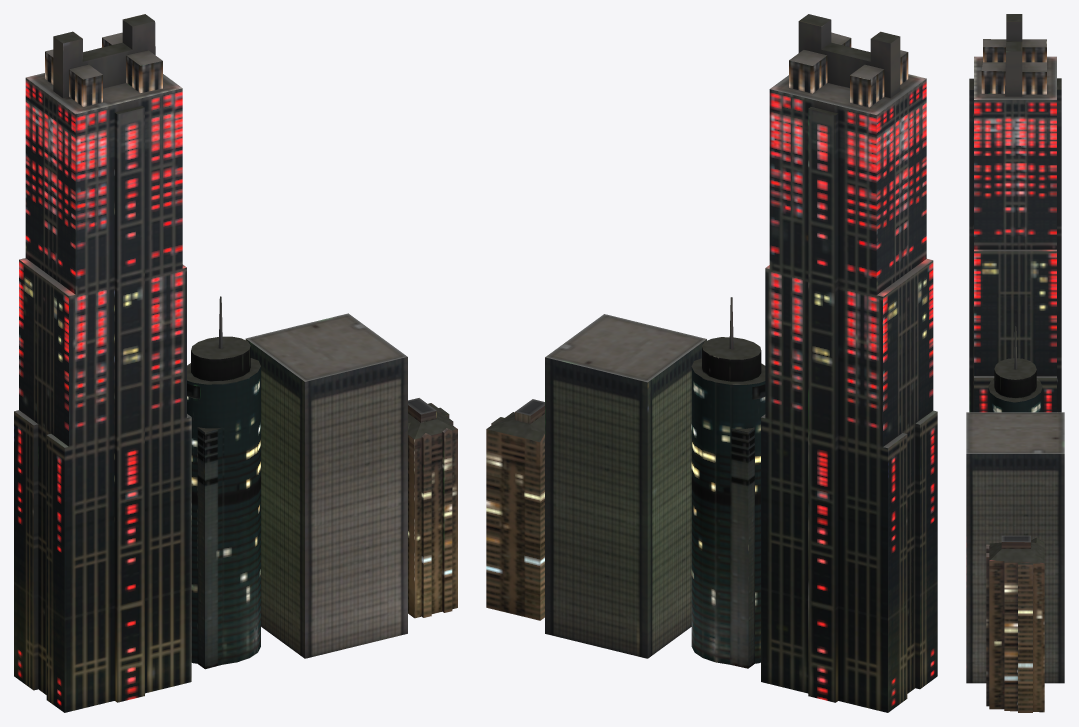
File: tokyo-zakkyo-a.glb
3 views of the same model, side by side, from view 1: azimuth 30°, elevation 25°; view 2: azimuth 150°, elevation 25°; view 3: azimuth 270°, elevation 25° (orthographic). The views are drawn at different scales.
Visible parts, largest first — view 1: Clone of BACKGROUND_BUILDINGS_1.009_BACKGROUND_BUILDINGS_1_0, Clone of BACKGROUND_BUILDINGS_1.002_BACKGROUND_BUILDINGS_1_0, Clone of BACKGROUND_BUILDINGS_1.001_BACKGROUND_BUILDINGS_1_0, Clone of BACKGROUND_BUILDINGS_1.005_BACKGROUND_BUILDINGS_1_0; view 2: Clone of BACKGROUND_BUILDINGS_1.009_BACKGROUND_BUILDINGS_1_0, Clone of BACKGROUND_BUILDINGS_1.002_BACKGROUND_BUILDINGS_1_0, Clone of BACKGROUND_BUILDINGS_1.001_BACKGROUND_BUILDINGS_1_0, Clone of BACKGROUND_BUILDINGS_1.005_BACKGROUND_BUILDINGS_1_0; view 3: Clone of BACKGROUND_BUILDINGS_1.009_BACKGROUND_BUILDINGS_1_0, Clone of BACKGROUND_BUILDINGS_1.002_BACKGROUND_BUILDINGS_1_0, Clone of BACKGROUND_BUILDINGS_1.005_BACKGROUND_BUILDINGS_1_0, Clone of BACKGROUND_BUILDINGS_1.001_BACKGROUND_BUILDINGS_1_0.
Part boxes in pixels (x1,y1,x2,y2): Clone of BACKGROUND_BUILDINGS_1.009_BACKGROUND_BUILDINGS_1_0: (14, 14, 191, 712); Clone of BACKGROUND_BUILDINGS_1.002_BACKGROUND_BUILDINGS_1_0: (245, 313, 407, 658); Clone of BACKGROUND_BUILDINGS_1.001_BACKGROUND_BUILDINGS_1_0: (187, 296, 260, 669); Clone of BACKGROUND_BUILDINGS_1.005_BACKGROUND_BUILDINGS_1_0: (408, 398, 457, 618); Clone of BACKGROUND_BUILDINGS_1.009_BACKGROUND_BUILDINGS_1_0: (761, 14, 937, 712); Clone of BACKGROUND_BUILDINGS_1.002_BACKGROUND_BUILDINGS_1_0: (545, 314, 706, 658); Clone of BACKGROUND_BUILDINGS_1.001_BACKGROUND_BUILDINGS_1_0: (691, 297, 765, 668); Clone of BACKGROUND_BUILDINGS_1.005_BACKGROUND_BUILDINGS_1_0: (486, 399, 544, 620); Clone of BACKGROUND_BUILDINGS_1.009_BACKGROUND_BUILDINGS_1_0: (969, 14, 1061, 412); Clone of BACKGROUND_BUILDINGS_1.002_BACKGROUND_BUILDINGS_1_0: (966, 412, 1064, 683); Clone of BACKGROUND_BUILDINGS_1.005_BACKGROUND_BUILDINGS_1_0: (986, 535, 1044, 712); Clone of BACKGROUND_BUILDINGS_1.001_BACKGROUND_BUILDINGS_1_0: (988, 326, 1042, 412).
Bounding box in the file's own units: 199 × 301 × 49.71.
Materials: 1 (1 with a texture image).
